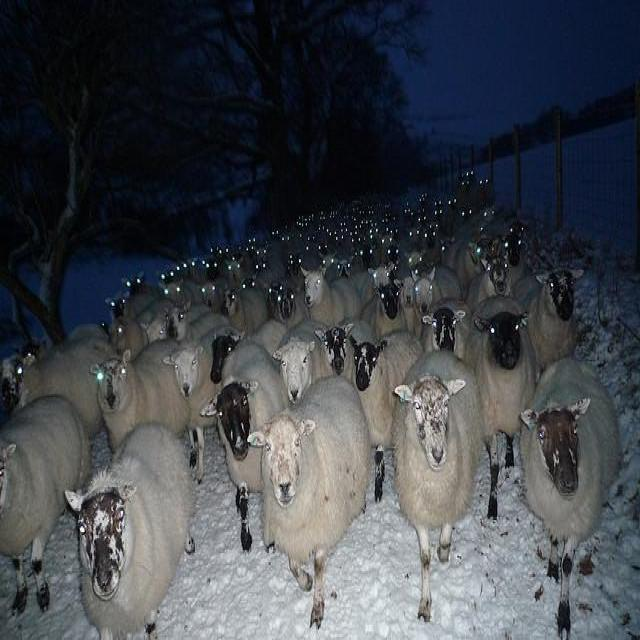Sheep: (8, 170, 524, 470), (248, 378, 372, 631), (518, 351, 623, 638), (65, 421, 198, 639), (392, 354, 483, 619), (0, 397, 95, 630), (199, 337, 292, 552), (466, 294, 538, 516), (354, 331, 427, 501), (508, 268, 583, 393), (105, 340, 189, 447), (410, 264, 464, 345), (163, 298, 232, 352), (318, 321, 375, 386)
